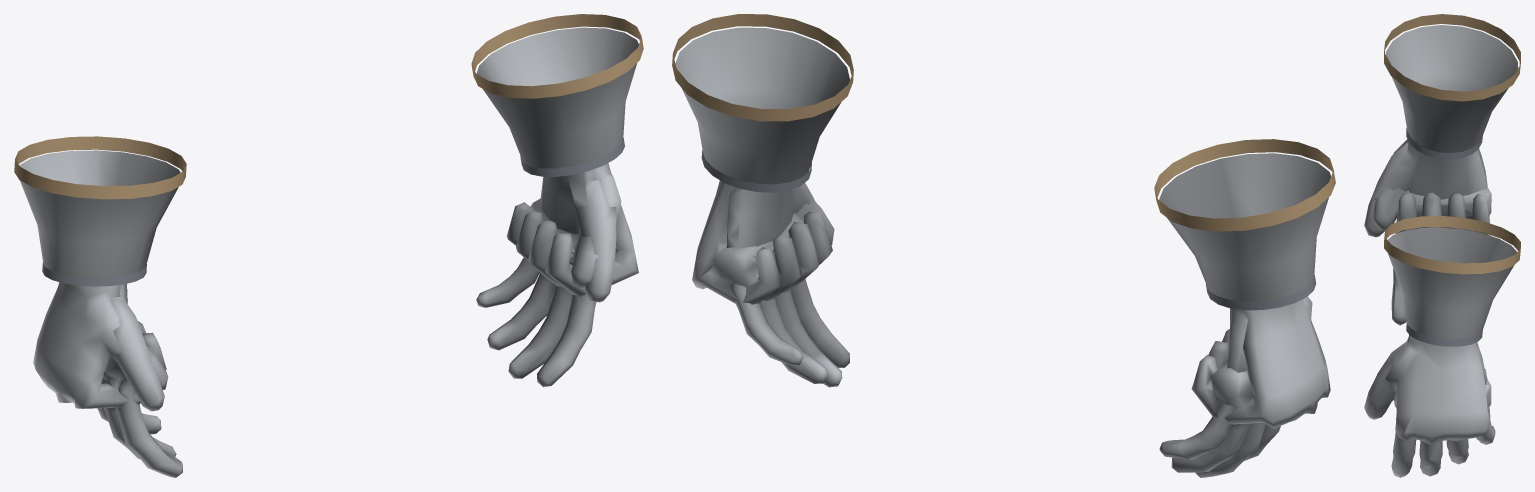
File: g_ironplate.glb
3 renders of one model, left to right at view 1: azimuth 30°, elevation 25°; view 2: azimuth 150°, elevation 25°; view 3: azimuth 270°, elevation 25°, orthographic. The views are drawn at different scales.
Parts seen in each view (by area): view 1: ArmL_Gauntlet, ArmR_Gauntlet, ArmL_HandOpen, ArmR_Hand, ArmL_Hand, ArmR_HandOpen; view 2: ArmL_Gauntlet, ArmR_Gauntlet, ArmR_Hand, ArmL_HandOpen, ArmL_Hand, ArmR_HandOpen; view 3: ArmR_Gauntlet, ArmL_Gauntlet, ArmL_Hand, ArmR_HandOpen, ArmL_HandOpen, ArmR_Hand.
Boxes of the visible parts, bbox=[...] form: ArmL_Gauntlet: bbox=[471, 14, 643, 176]; ArmR_Gauntlet: bbox=[14, 136, 186, 286]; ArmL_HandOpen: bbox=[476, 169, 616, 387]; ArmR_Hand: bbox=[33, 282, 168, 408]; ArmL_Hand: bbox=[507, 163, 638, 296]; ArmR_HandOpen: bbox=[97, 284, 182, 477]; ArmL_Gauntlet: bbox=[672, 14, 853, 192]; ArmR_Gauntlet: bbox=[1154, 139, 1335, 310]; ArmR_Hand: bbox=[1191, 296, 1330, 428]; ArmL_HandOpen: bbox=[726, 183, 849, 387]; ArmL_Hand: bbox=[692, 180, 834, 304]; ArmR_HandOpen: bbox=[1159, 308, 1280, 477]; ArmR_Gauntlet: bbox=[1384, 14, 1520, 159]; ArmL_Gauntlet: bbox=[1384, 216, 1520, 346]; ArmL_Hand: bbox=[1385, 335, 1491, 445]; ArmR_HandOpen: bbox=[1364, 141, 1490, 325]; ArmL_HandOpen: bbox=[1364, 335, 1495, 477]; ArmR_Hand: bbox=[1372, 139, 1491, 234].
Bounding box in the file's own units: 0.6032 × 0.3011 × 0.1606.
